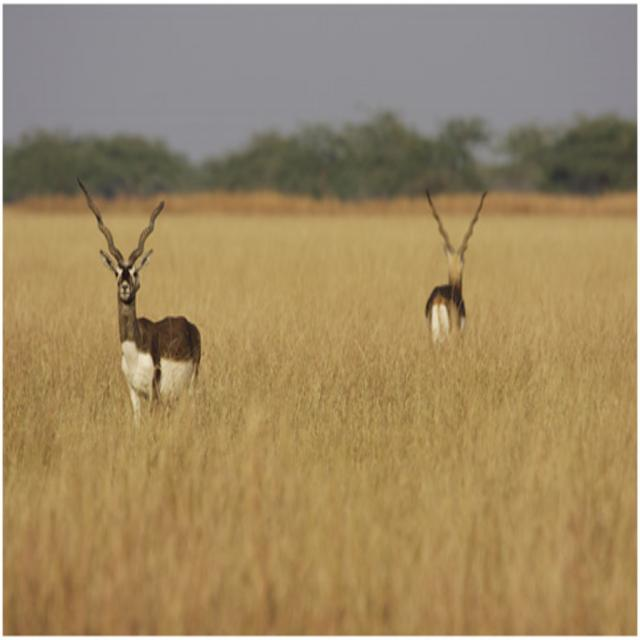Deer: (74, 172, 201, 422), (425, 178, 489, 350)
